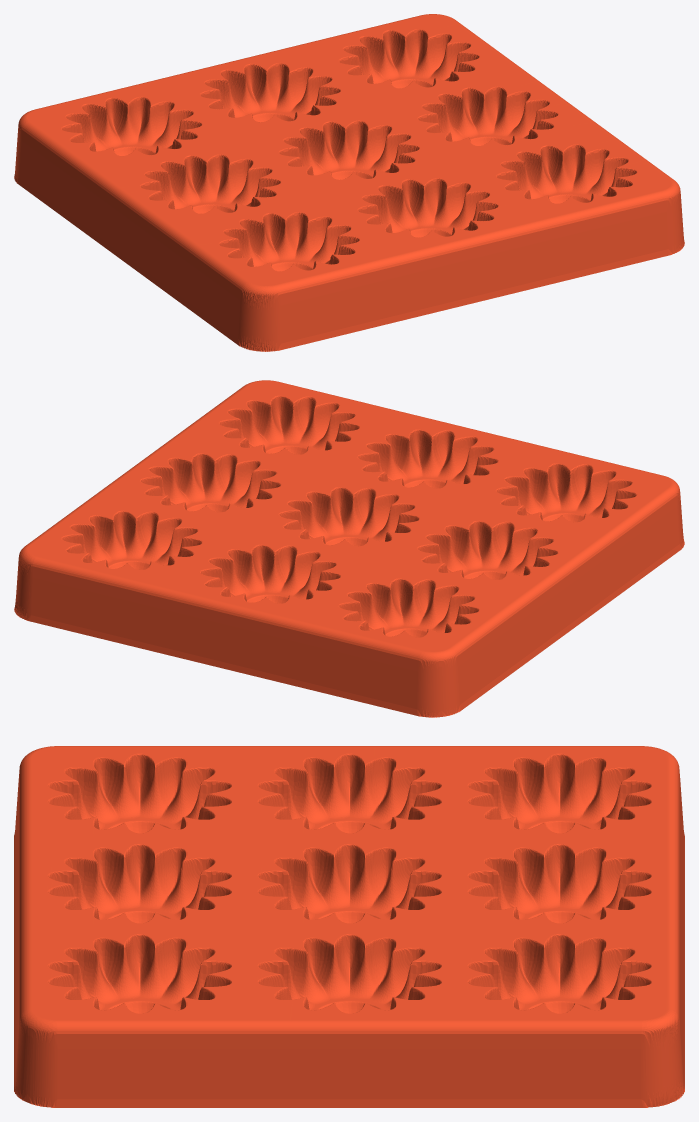
File: mold.glb
The picture shows the model from 3 angles, top to bottom: view 1: azimuth 30°, elevation 25°; view 2: azimuth 150°, elevation 25°; view 3: azimuth 270°, elevation 25°; orthographic projection. The views are drawn at different scales.
Visible parts, largest first — view 1: geometry_0; view 2: geometry_0; view 3: geometry_0.
Part boxes in pixels (box(x1,y1,x2,y2)): geometry_0: box(14, 14, 684, 351); geometry_0: box(14, 380, 684, 717); geometry_0: box(14, 746, 684, 1107).
Size of the model in its own units: 0.1402 by 0.0182 by 0.138.
